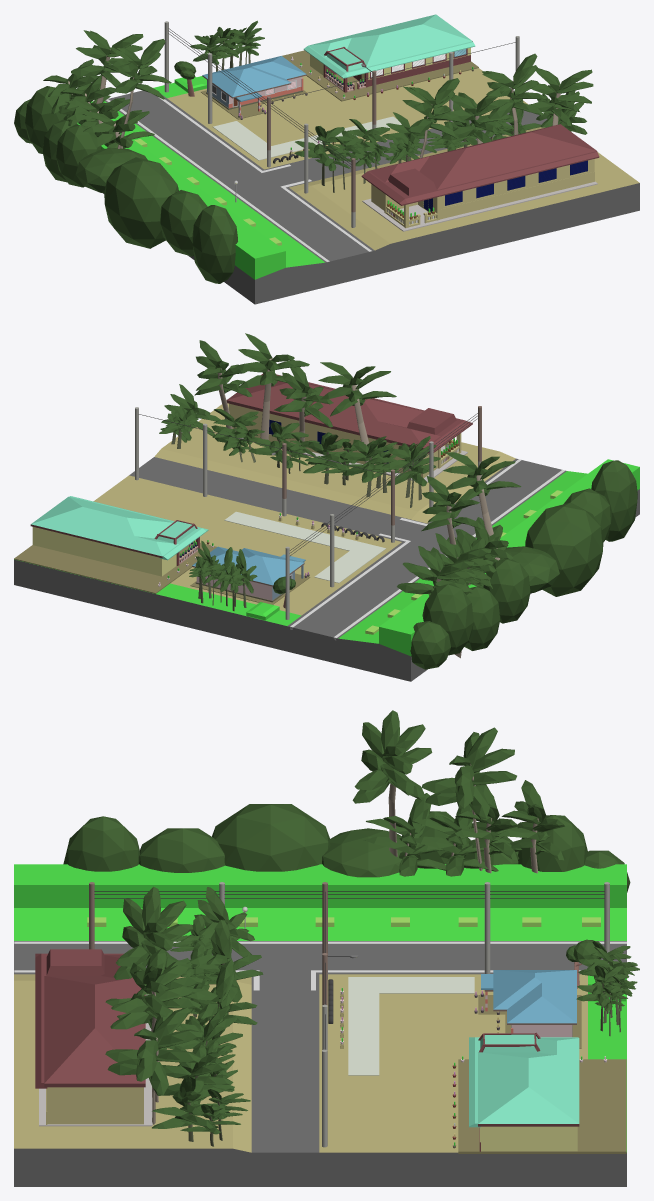
File: BatuPahat.fbx
3 renders of one model, top to bottom at view 1: azimuth 30°, elevation 25°; view 2: azimuth 150°, elevation 25°; view 3: azimuth 270°, elevation 25°, orthographic. The views are drawn at different scales.
Visible parts, largest first — view 1: Cube.027, Icosphere.007, Cube.014, Icosphere.006, Cube.001, Cube.005, Cylinder.008, Cylinder.012; view 2: Cube.027, Icosphere.007, Icosphere.006, Cube.001, Cube.014, Cylinder.008, Cylinder.012, Cube.005; view 3: Cube.027, Icosphere.007, Icosphere.006, Cube.001, Cube.014, Cube.005, Cylinder.008, Cylinder.012.
Boxes of the visible parts, box(x1,y1,x2,y2) form: Cube.027: box(77, 68, 639, 304); Icosphere.007: box(14, 30, 237, 283); Cube.014: box(361, 124, 599, 231); Icosphere.006: box(294, 53, 593, 192); Cube.001: box(282, 14, 478, 101); Cube.005: box(202, 56, 307, 119); Cylinder.008: box(164, 21, 519, 227); Cylinder.012: box(174, 20, 264, 96); Cube.027: box(14, 403, 639, 681); Icosphere.007: box(397, 452, 637, 669); Icosphere.006: box(159, 333, 440, 507); Cube.001: box(14, 496, 216, 593); Cube.014: box(226, 373, 472, 482); Cylinder.008: box(135, 406, 481, 619); Cylinder.012: box(189, 540, 295, 611); Cube.005: box(192, 546, 309, 602); Cube.027: box(14, 864, 626, 1186); Icosphere.007: box(63, 710, 630, 892); Icosphere.006: box(105, 886, 263, 1146); Cube.001: box(452, 1032, 626, 1153); Cube.014: box(35, 949, 152, 1126); Cube.005: box(474, 970, 576, 1037); Cylinder.008: box(89, 882, 609, 1147); Cylinder.012: box(566, 939, 639, 1036).
Size of the model in its own units: 7529 by 3040 by 6658.
